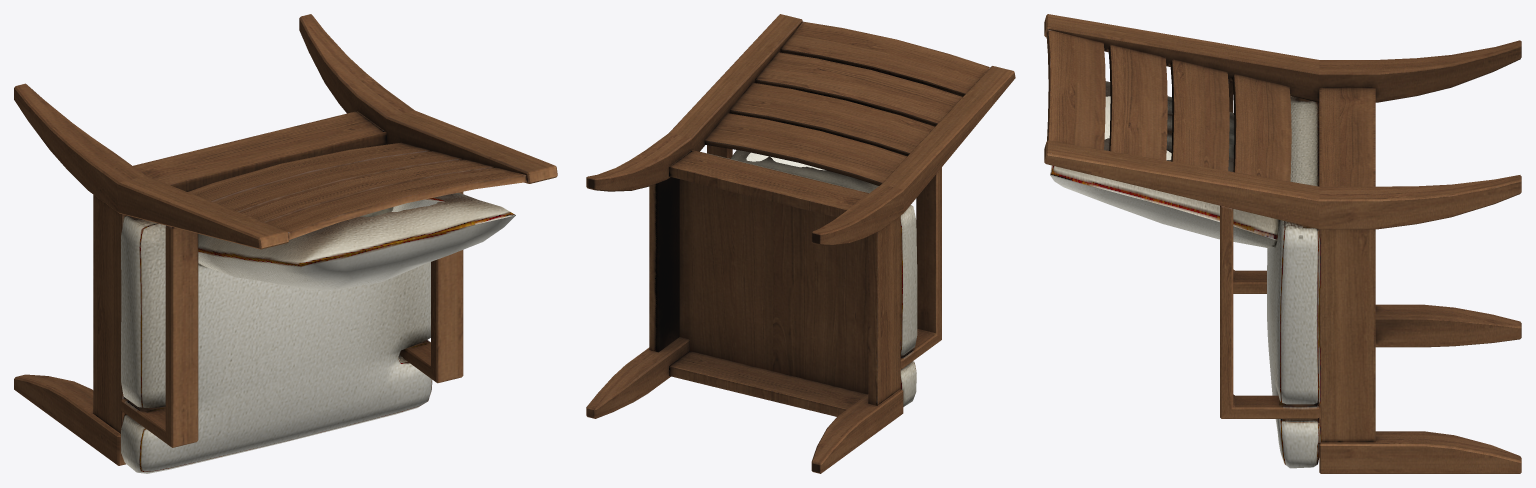
Rendered from HSM0002.obj.
The picture shows the model from 3 angles, left to right: view 1: azimuth 30°, elevation 25°; view 2: azimuth 150°, elevation 25°; view 3: azimuth 270°, elevation 25°; orthographic projection. The views are drawn at different scales.
Visible parts, largest first — view 1: Arm_chair_green001; view 2: Arm_chair_green001; view 3: Arm_chair_green001.
Boxes of the visible parts, bbox=[...] form: Arm_chair_green001: bbox=[14, 14, 557, 473]; Arm_chair_green001: bbox=[586, 14, 1015, 473]; Arm_chair_green001: bbox=[1044, 14, 1521, 473].
Bounding box in the file's own units: 63.87 × 68.74 × 91.44.
Materials: 1 (1 with a texture image).
